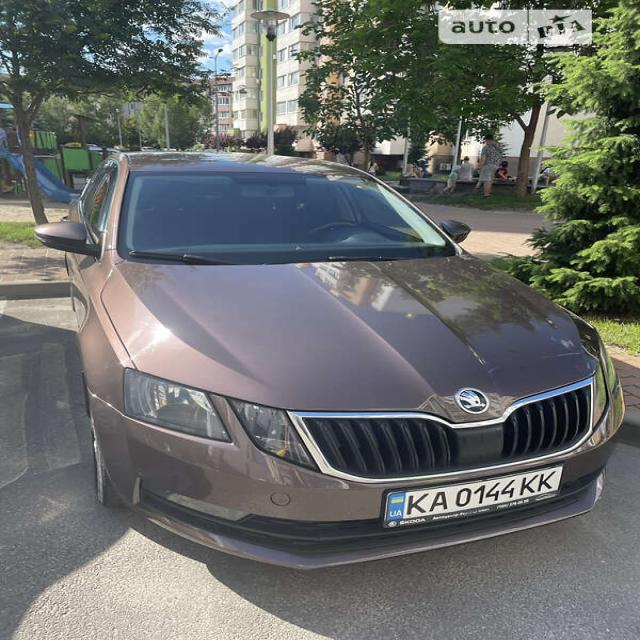plate: (376, 465, 570, 538)
